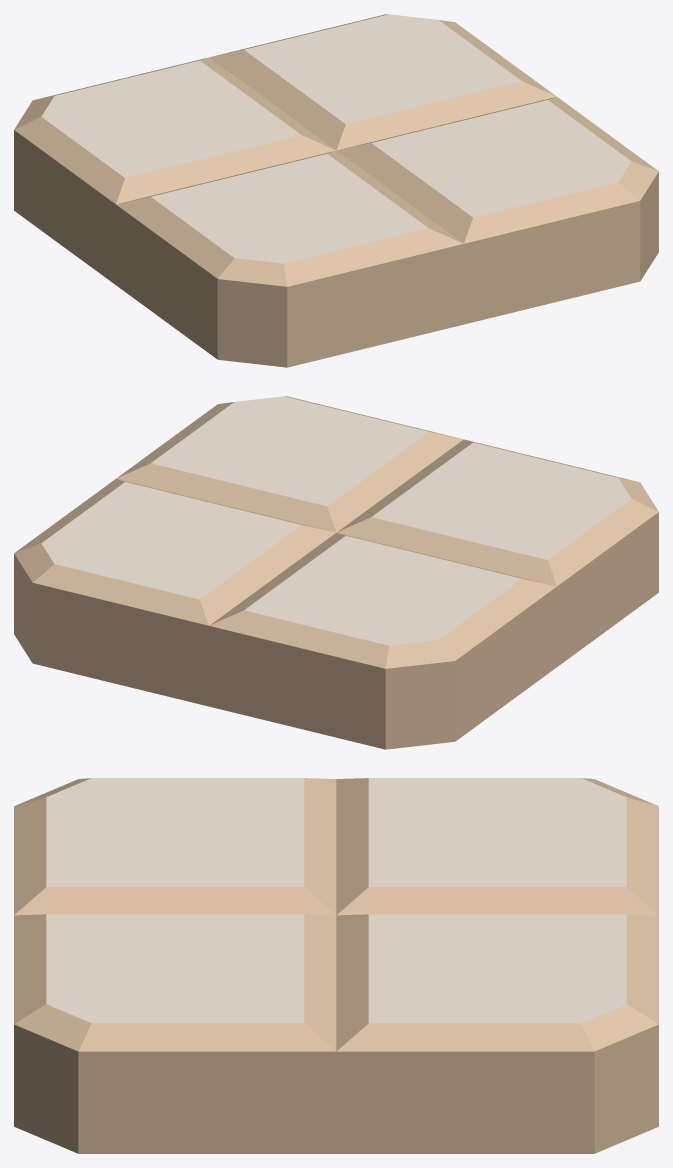
Rendered from Puzzle_Sliding_Platform_1x1.obj.
3 renders of one model, top to bottom at view 1: azimuth 30°, elevation 25°; view 2: azimuth 150°, elevation 25°; view 3: azimuth 270°, elevation 25°, orthographic. The views are drawn at different scales.
Parts seen in each view (by area): view 1: object1; view 2: object1; view 3: object1.
Part boxes in pixels (x1,y1,x2,y2): object1: (14, 14, 658, 367); object1: (14, 396, 658, 749); object1: (14, 778, 658, 1153).
Bounding box in the file's own units: 1 × 0.3 × 1.
